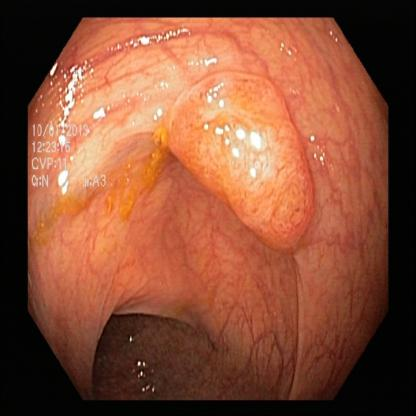Labels: (27, 120, 117, 195)
Polyps: (166, 76, 325, 250)
